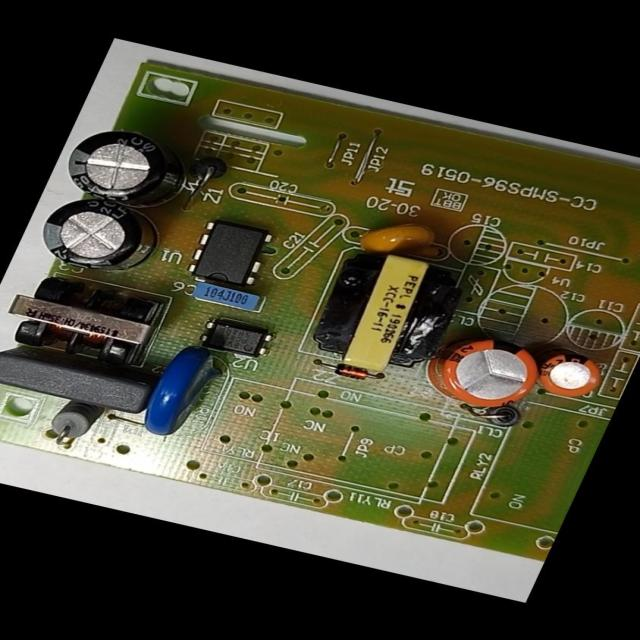Cap1: (413, 322, 555, 420)
Cap2: (528, 342, 616, 405)
Cap3: (23, 185, 179, 286)
Cap4: (49, 115, 207, 218)
MOSFET: (177, 212, 284, 295)
Mov: (124, 336, 235, 444)
Resistor: (29, 394, 109, 458)
Transformer: (297, 240, 473, 384), (0, 261, 174, 372)
